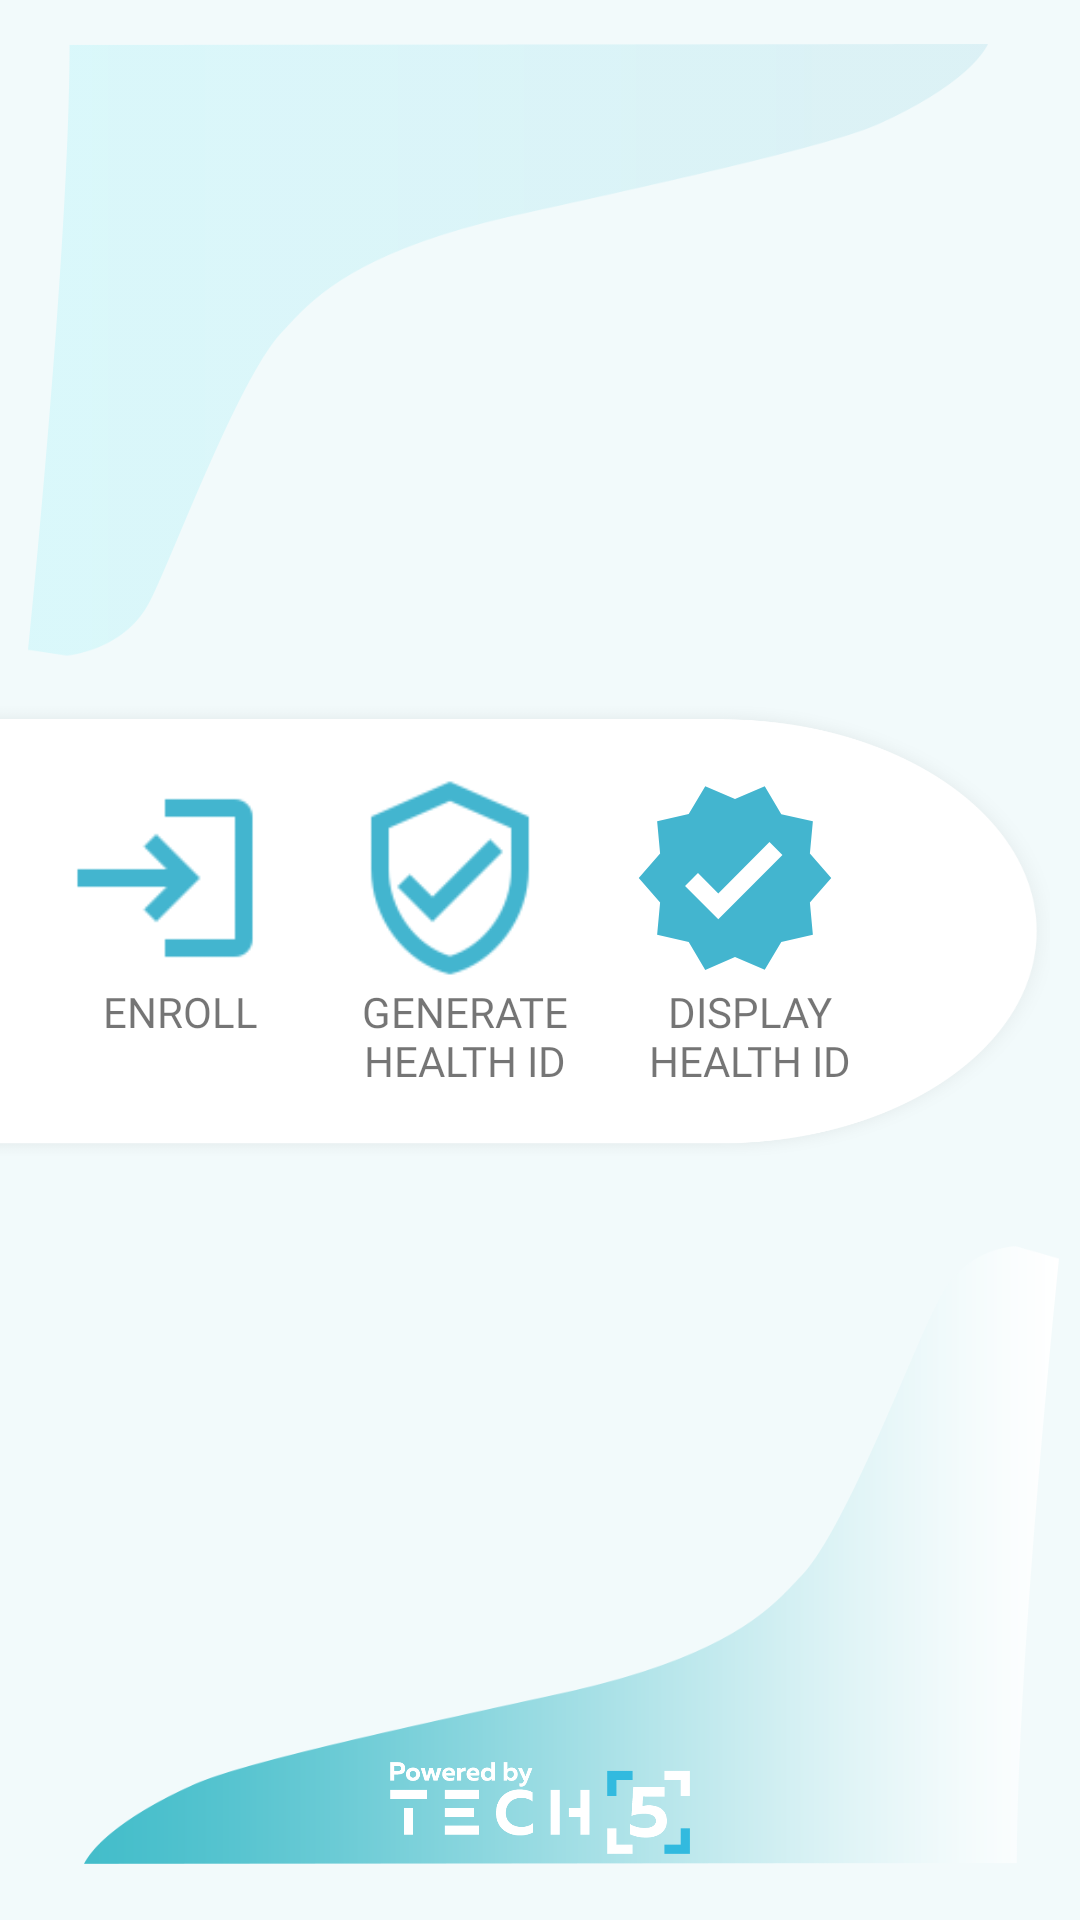

Locate icon controls on the screen. Image size 1080w x 1920h, boxes as (left=x1, top=y1, right=x2, bottom=y2).
verified: (left=639, top=786, right=831, bottom=970)
verify: (left=370, top=781, right=530, bottom=975)
